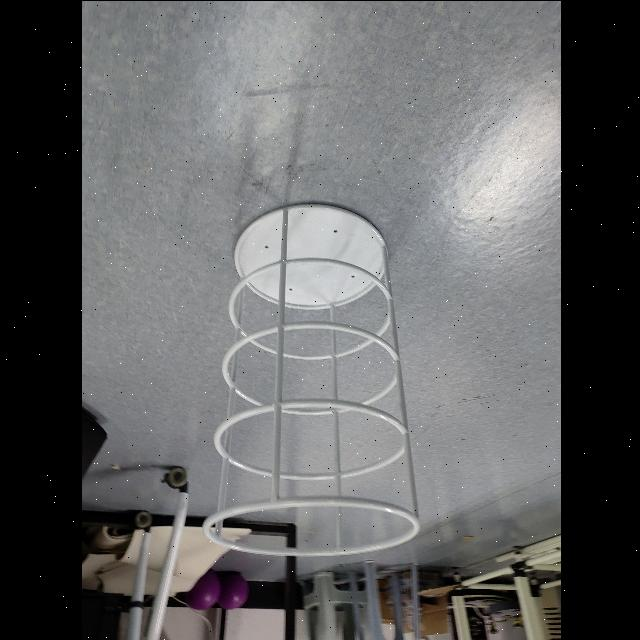S: (199, 196, 421, 558)
